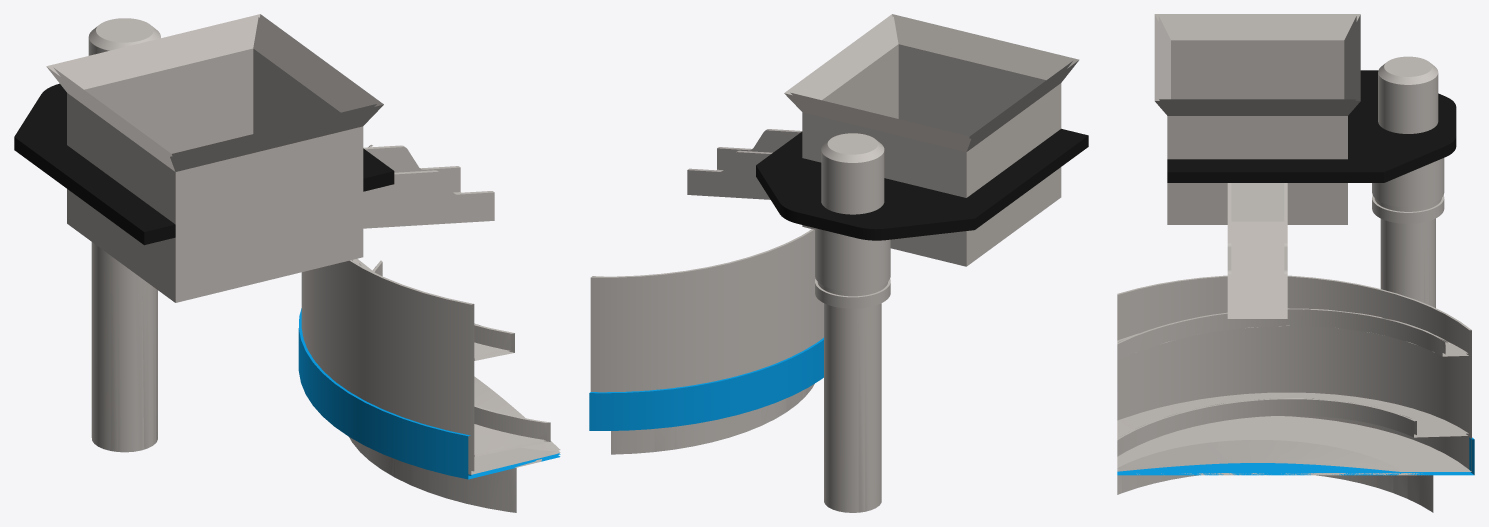
File: PinInsertionStation_Cube07.glb
The picture shows the model from 3 angles, left to right: view 1: azimuth 30°, elevation 25°; view 2: azimuth 150°, elevation 25°; view 3: azimuth 270°, elevation 25°; orthographic projection. The views are drawn at different scales.
Visible parts, largest first — view 1: color-25; view 2: color-25; view 3: color-25.
Boxes of the visible parts, x1,y1,x2,y2 form: color-25: (14,14,560,512); color-25: (589,14,1088,512); color-25: (1117,14,1474,512).
Bounding box in the file's own units: 0.3184 × 0.32 × 0.2966.
